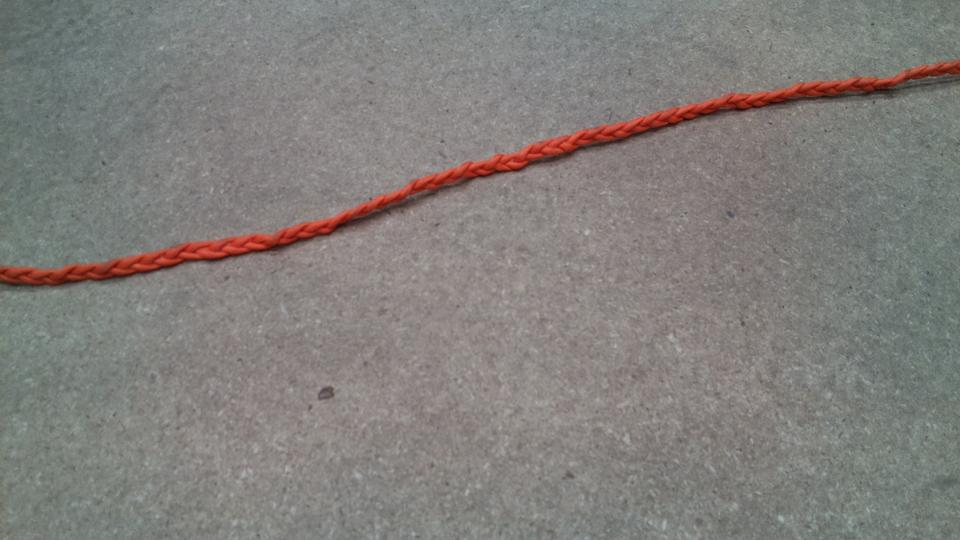rope: (2, 59, 960, 288)
